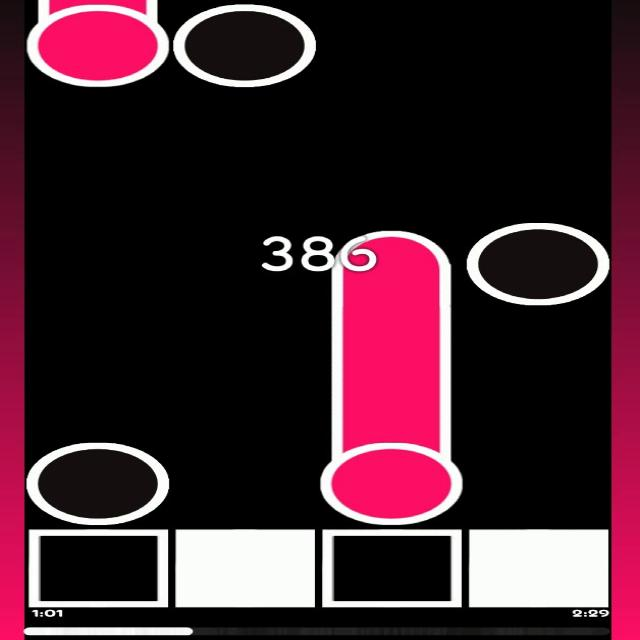end_hold: (323, 219, 459, 272)
note: (173, 3, 316, 88), (25, 444, 169, 526), (468, 222, 606, 306)
start_hold: (322, 421, 464, 524), (26, 0, 168, 87)
